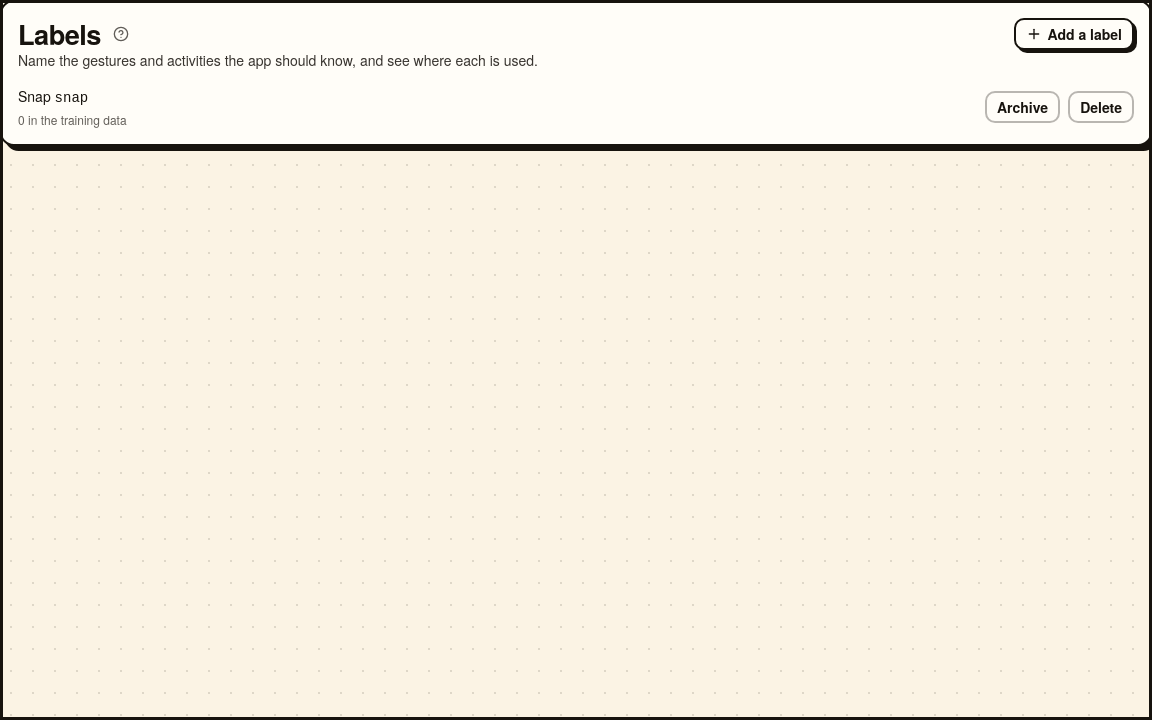
Scenario: LabelCoverage › refuses a duplicate or empty id before asking, and shows the backend's refusal
Click the button "Add a label".
click(1074, 34)  # box [1014, 18, 1134, 50]
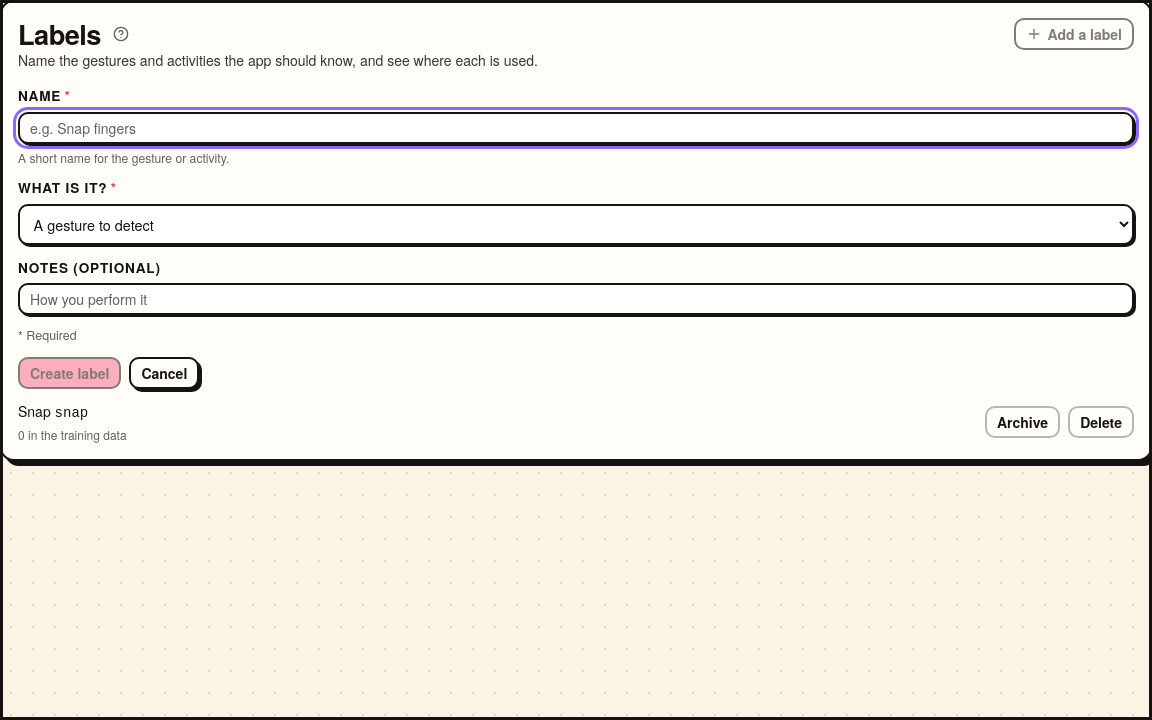
Type "SNAP" into the field labelled "Name".
click(576, 128); type("SNAP")  # box [18, 112, 1134, 144]
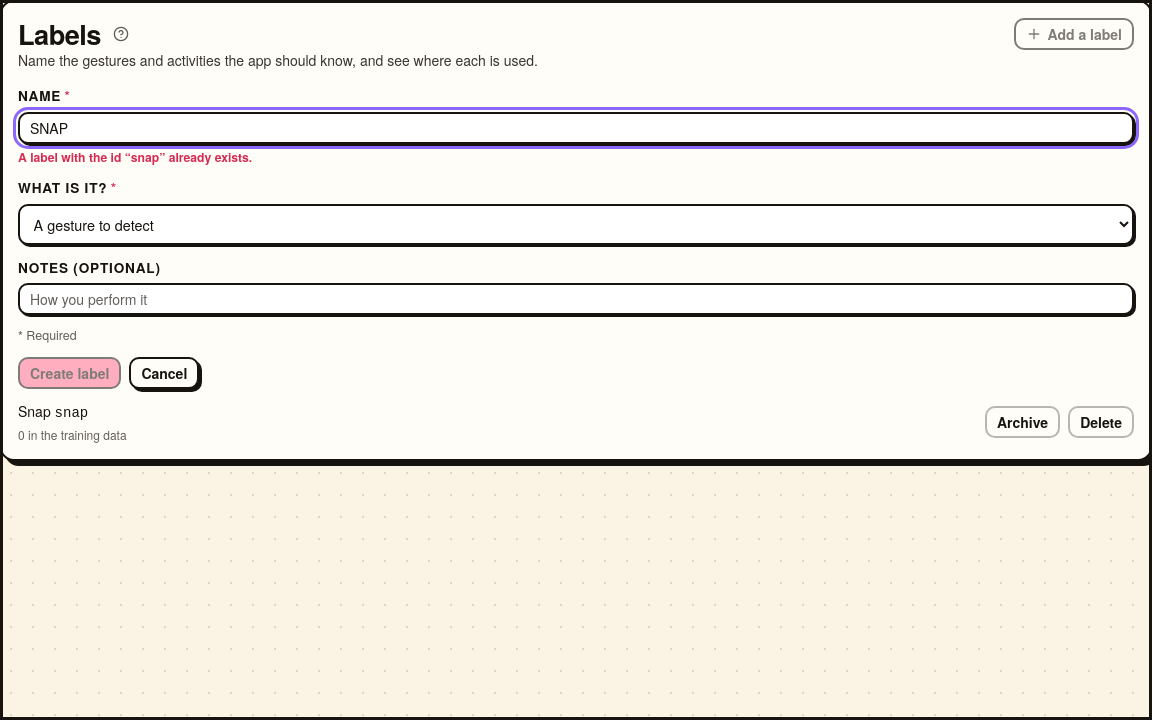
Expected: the button "Create label" is disabled, [18, 357, 121, 389]
Expected: the message shows "already exists", [18, 148, 252, 166]
Replace the text in the field labelled "Name" with "!!!" at [576, 128], box [18, 112, 1134, 144]
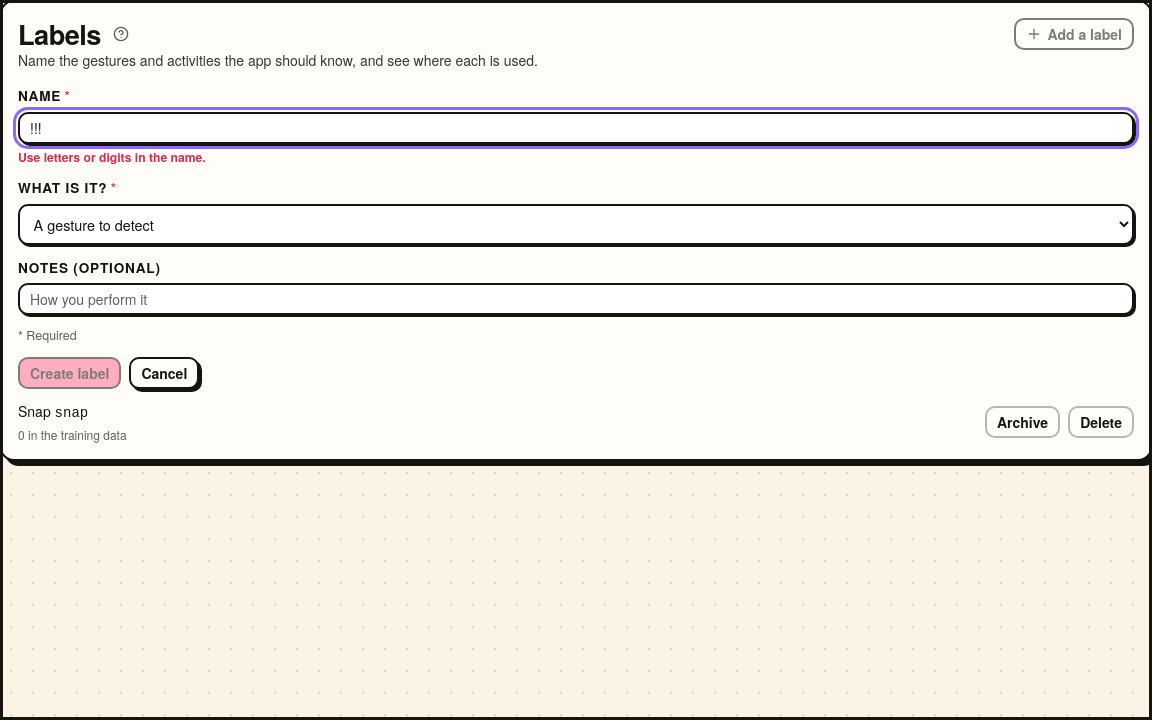
Expected: the message shows "letters or digits", [18, 148, 206, 166]
Replace the text in the field labelled "Name" with "wave" at [576, 128], box [18, 112, 1134, 144]
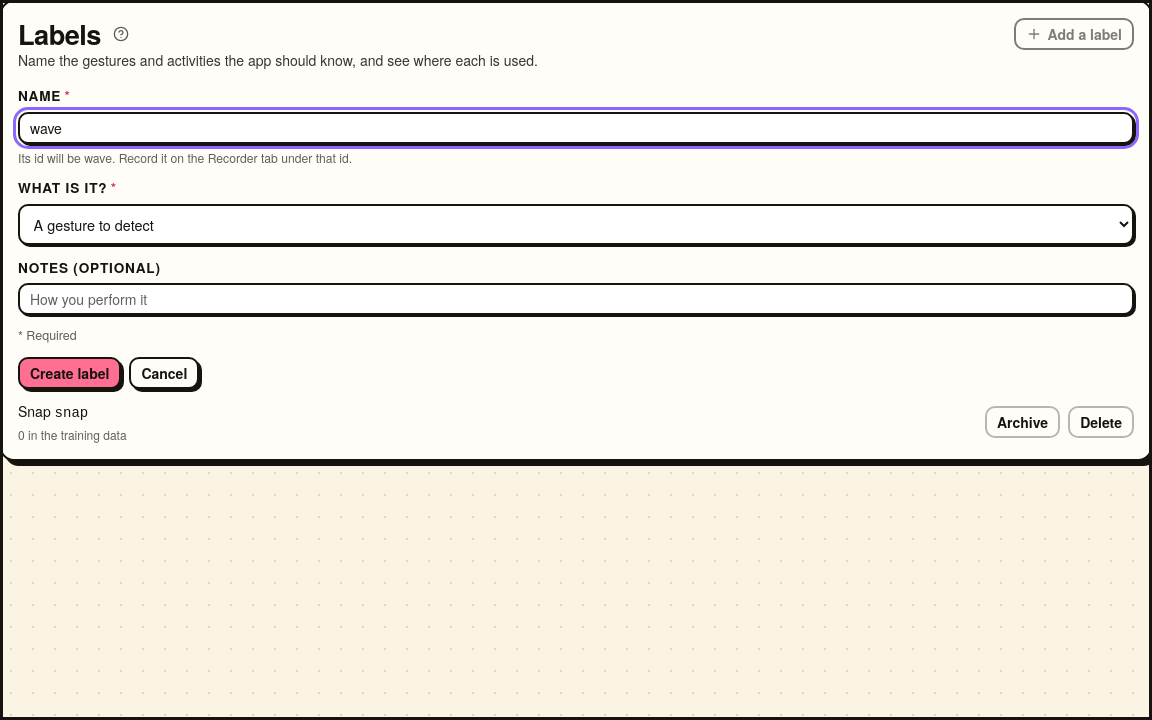
Click the button "Create label".
click(70, 373)  # box [18, 357, 121, 389]
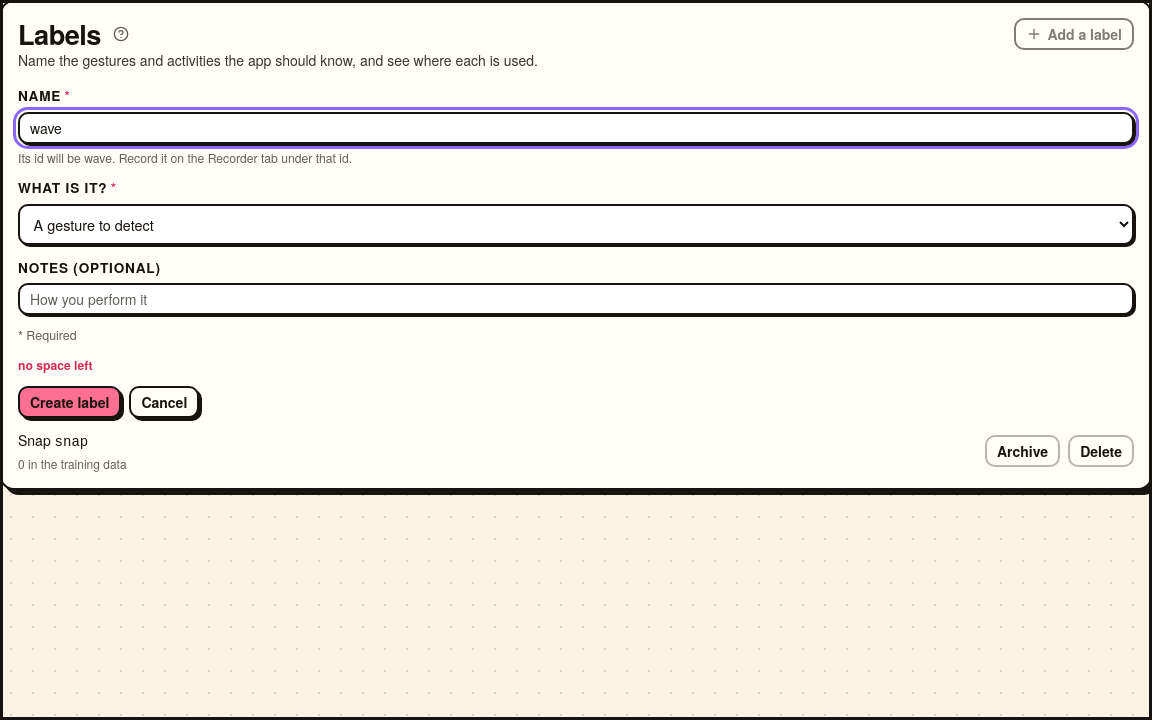
Expected: the text "no space left" is shown, [18, 356, 93, 374]
